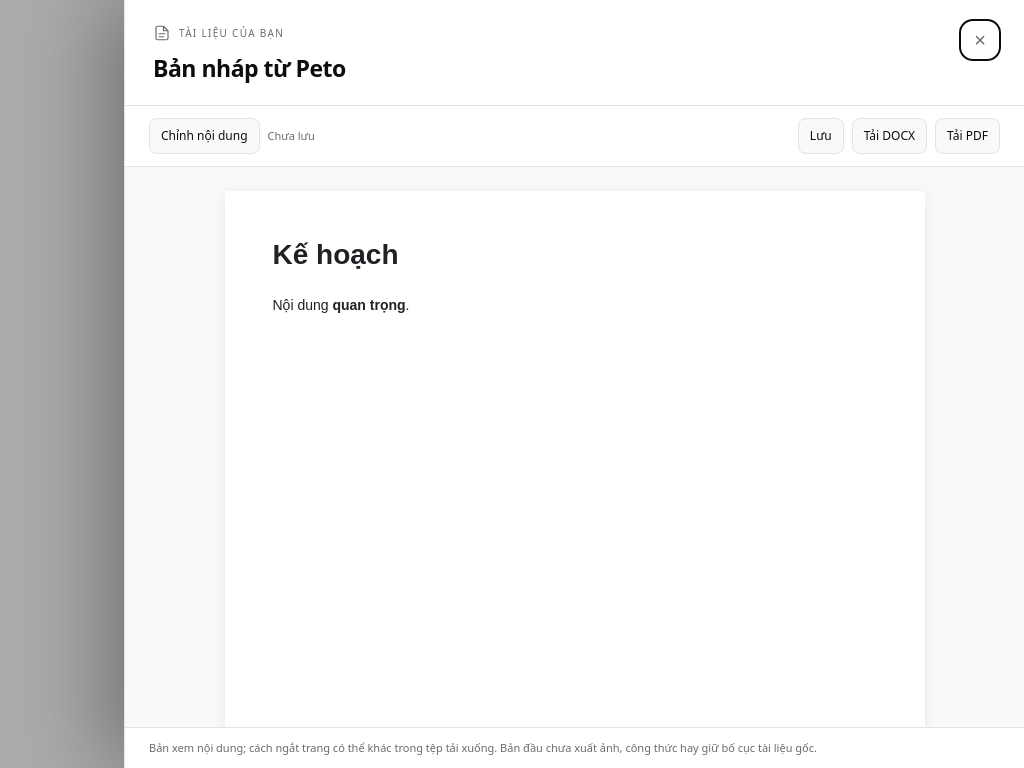
lỗi lưu giữ bản nháp và không tải bản cũ
Click the button "Tải DOCX" at (889, 136), box [852,118,927,154]
(page scrolled)
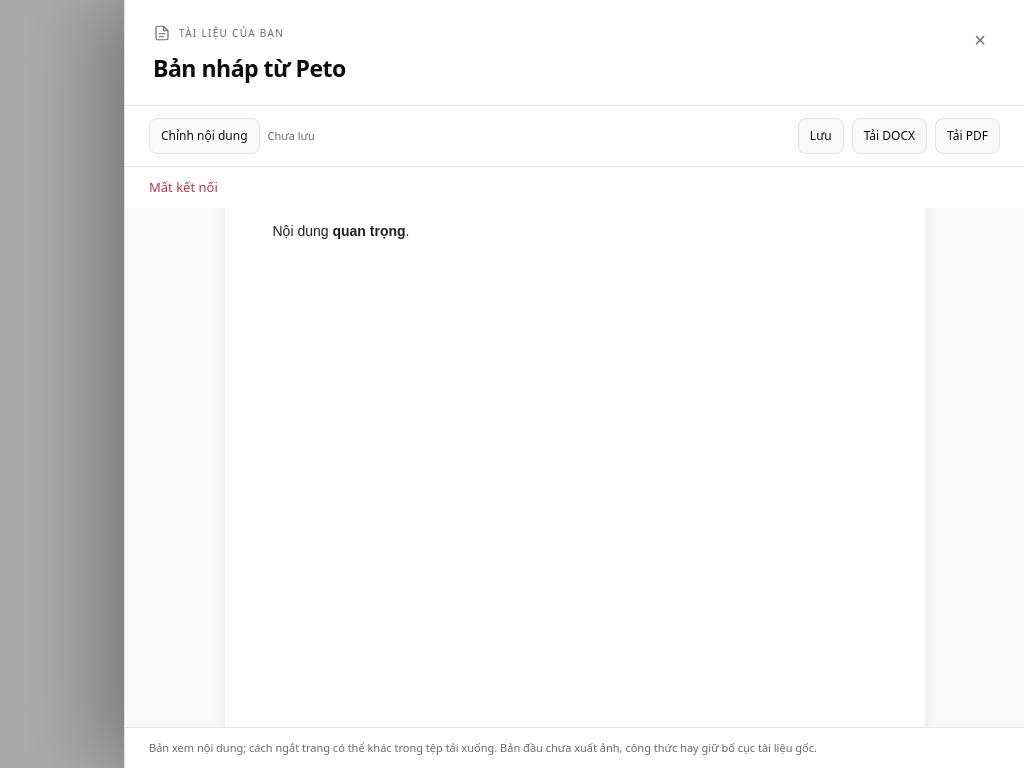
Check: the element showing "Kế hoạch Nội dung quan trọng." is shown, box [224,208,924,726]
Check: the message reads "Mất kết nối", box [149,178,218,196]
